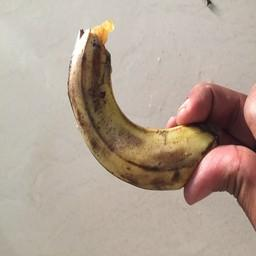Bad_banana: (66, 16, 216, 205)
